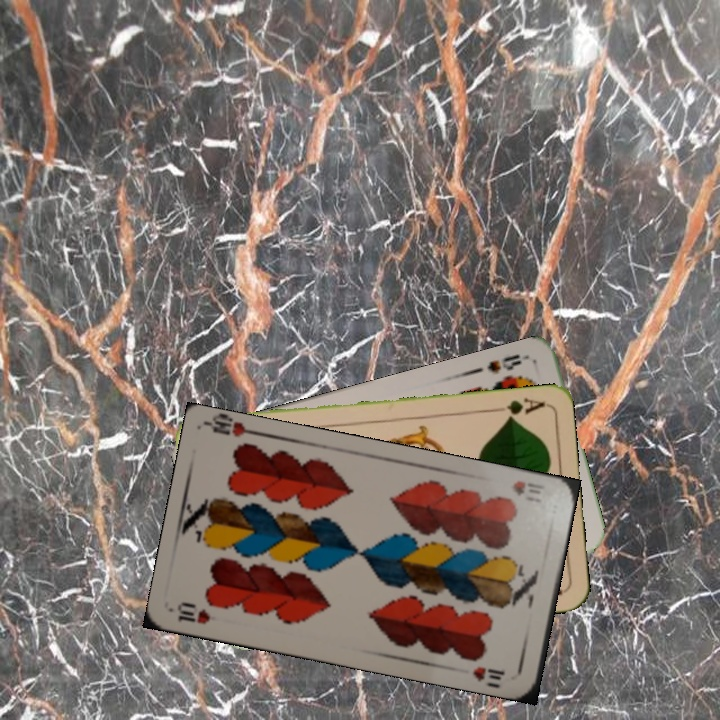GA: (488, 393, 547, 422)
H10: (507, 476, 547, 505), (173, 598, 213, 627)
S8: (482, 350, 532, 376)
